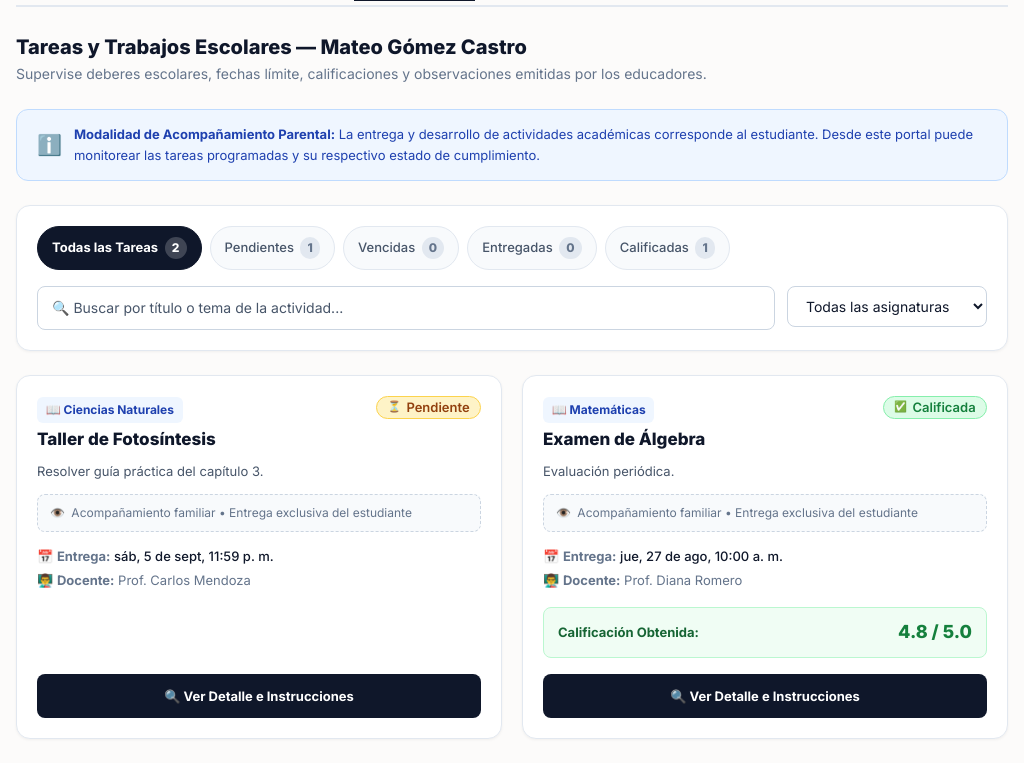
GuardianPortal (Phase 14C) › navigates to "Tareas" view and opens strictly READ-ONLY task detail modal (No submission buttons)
(page scrolled)
Expected: the heading "Tareas y Trabajos Escolares — Mateo Gómez Castro" is shown, [16, 35, 527, 59]
Expected: the heading "Taller de Fotosíntesis" is shown, [37, 428, 216, 450]
# Click "Ver Detalle e Instrucciones"
What coordinates should you click on to do the following:
click the button "🔍 Ver Detalle e Instrucciones" below "Prof. Carlos Mendoza"
I would click on:
 (259, 696)
Its box is [37, 674, 481, 718].
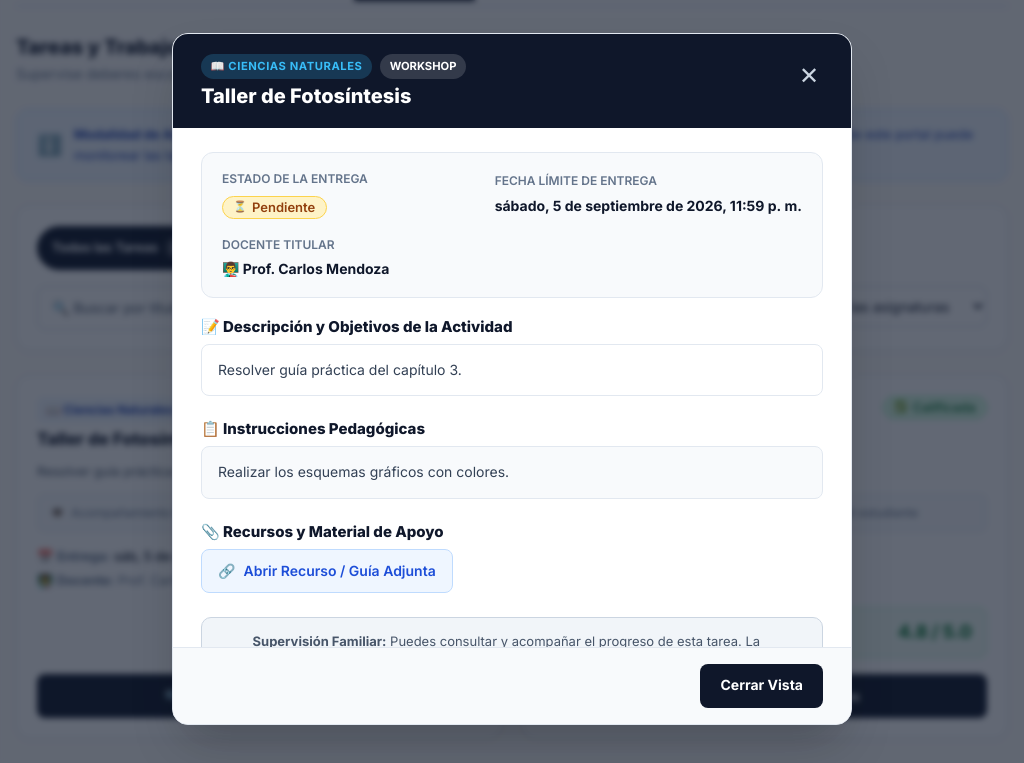
Now the heading "📝 Descripción y Objetivos de la Actividad" is shown, box [201, 317, 512, 336]
Now the heading "📋 Instrucciones Pedagógicas" is shown, box [201, 419, 425, 438]
# Close modal
What coordinates should you click on to do the following:
click the button "Cerrar Vista"
I would click on:
 (762, 686)
Its box is [700, 664, 823, 708].
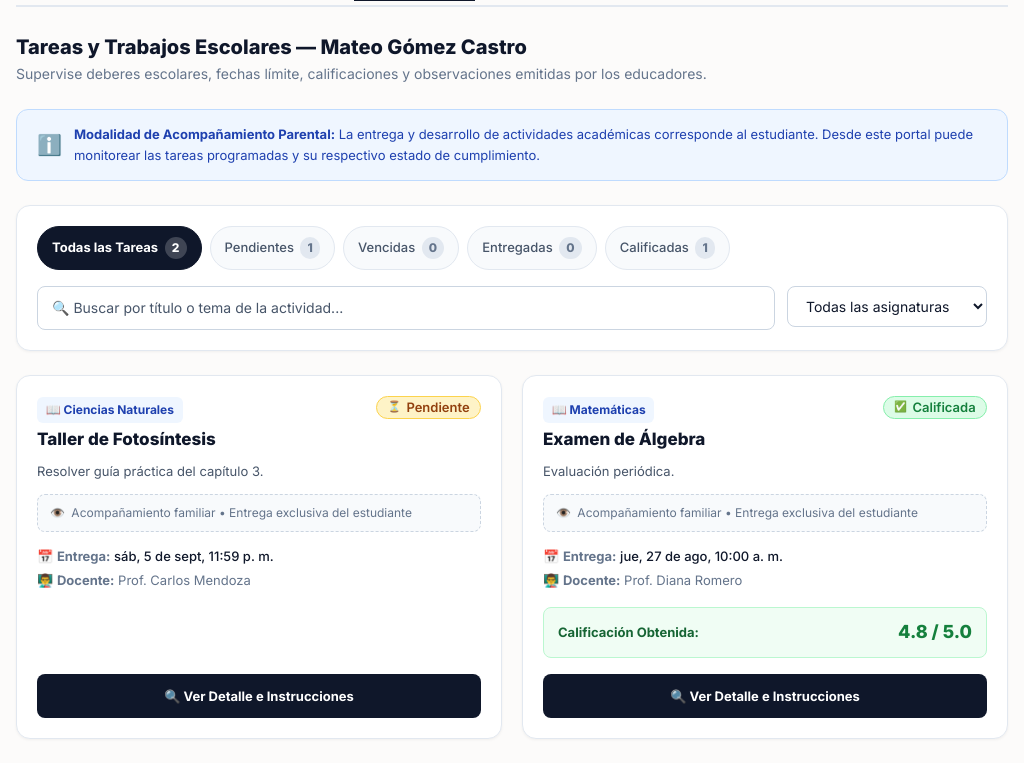
Now the heading "Descripción y Objetivos de la Actividad" is gone
